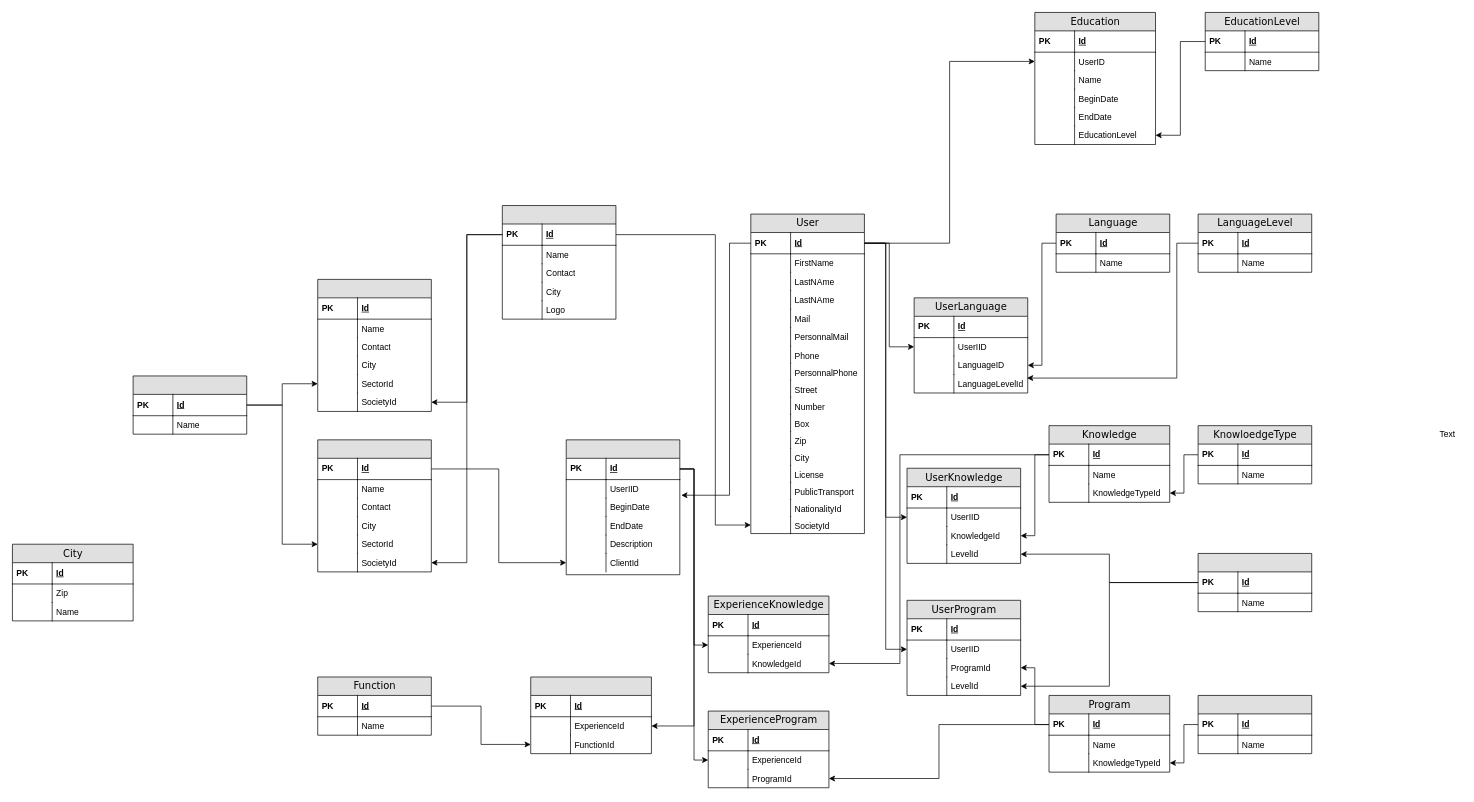
This 1474x802 diagram has some shape labels left out. Here are the shapes that lost their labels. From the top down, the box of each, then its label:
(502, 205, 616, 319): Society
(317, 279, 431, 411): Prospect
(132, 375, 247, 434): Sector
(317, 439, 431, 572): Client
(566, 439, 680, 575): Experience
(1197, 553, 1312, 612): Level
(530, 676, 651, 754): ExperienceFunction
(1197, 695, 1312, 754): ProgramType
